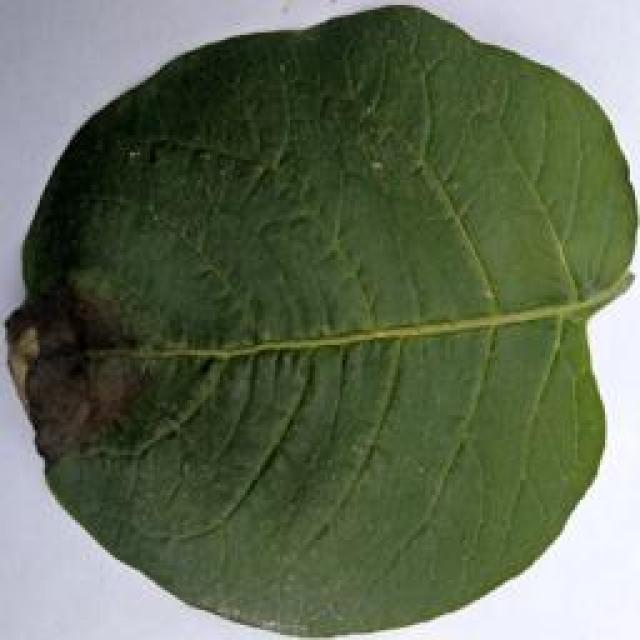Potato_Late_Blight: (8, 8, 626, 634)
